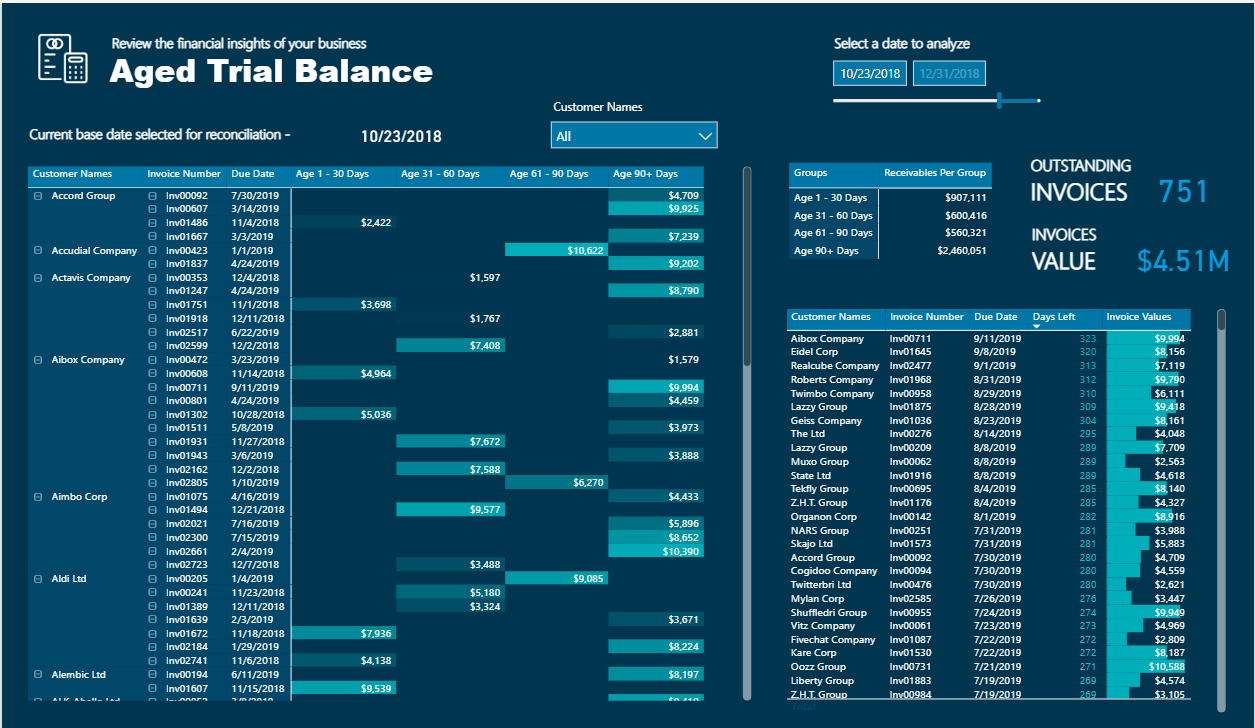

The dashboard page shown, as its layout file describes it:
{"tool":"powerbi","page":{"name":"Aged Trial Balance","canvas":[1280,720],"ordinal":5},"visuals":[{"type":"image","box":[18.3,1.1,88.2,60.2],"z":0},{"type":"textbox","box":[107.6,0,291.5,34.4],"z":1000},{"type":"textbox","box":[105.4,14.7,410.7,60.1],"z":2000},{"type":"pivotTable","fields":{"Rows":["Customers.Customer Names","Invoices.Invoice Number","Invoices.Due Date"],"Values":["Account Receivable.Receivables Per Group"],"Columns":["Aged Debtor Groups.Groups"]},"box":[21.5,136.8,749.7,556.3],"z":5000},{"type":"slicer","fields":{"Values":["Dates.Date.Variation.Date Hierarchy.Year"]},"box":[837.9,22.6,237.5,65.6],"z":6000},{"type":"card","fields":{"Values":["Account Receivable.Selected Date"]},"box":[300.8,97.2,216,29.4],"z":7000},{"type":"textbox","box":[845.8,0,180.9,30.5],"z":8000},{"type":"textbox","box":[22.6,93.9,295.1,30.5],"z":9000},{"type":"slicer","fields":{"Values":["Customers.Customer Names"]},"box":[550.7,67.8,191.1,69],"z":10000},{"type":"card","fields":{"Values":["Account Receivable.Outstanding Invoices"]},"box":[1166.9,128.9,83.7,70.1],"z":11000},{"type":"tableEx","fields":{"Values":["Customers.Customer Names","Invoices.Invoice Number","Invoices.Due Date","Account Receivable.Days Left As Receivable","Account Receivable.Invoice Values"]},"box":[796,282.7,460.2,422.9],"z":12000},{"type":"pivotTable","fields":{"Values":["Account Receivable.Receivables Per Group"],"Rows":["Aged Debtor Groups.Groups"]},"box":[800.6,133.4,237.5,118.7],"z":13000},{"type":"card","fields":{"Values":["Account Receivable.Receivables Per Group"]},"box":[1150,200.1,115.3,70.1],"z":14000},{"type":"textbox","box":[1048.2,194.5,100.6,70.1],"z":15000},{"type":"textbox","box":[1047.1,124.4,121,70.1],"z":16000}]}

Visuals, with their boxes on the page's 1280x720 design canvas (x1, y1, x2, y2). These are canvas units, not pixel positions in the 1255x728 screenshot, which may show the page scaled, cropped or inside an application window:
image: <bbox>18, 1, 106, 61</bbox>
textbox: <bbox>108, 0, 399, 34</bbox>
textbox: <bbox>105, 15, 516, 75</bbox>
pivotTable - Customers.Customer Names x Invoices.Invoice Number: <bbox>22, 137, 771, 693</bbox>
slicer - Dates.Date.Variation.Date Hierarchy.Year: <bbox>838, 23, 1075, 88</bbox>
card - Account Receivable.Selected Date: <bbox>301, 97, 517, 127</bbox>
textbox: <bbox>846, 0, 1027, 30</bbox>
textbox: <bbox>23, 94, 318, 124</bbox>
slicer - Customers.Customer Names: <bbox>551, 68, 742, 137</bbox>
card - Account Receivable.Outstanding Invoices: <bbox>1167, 129, 1251, 199</bbox>
tableEx - Customers.Customer Names x Invoices.Invoice Number: <bbox>796, 283, 1256, 706</bbox>
pivotTable - Account Receivable.Receivables Per Group x Aged Debtor Groups.Groups: <bbox>801, 133, 1038, 252</bbox>
card - Account Receivable.Receivables Per Group: <bbox>1150, 200, 1265, 270</bbox>
textbox: <bbox>1048, 194, 1149, 265</bbox>
textbox: <bbox>1047, 124, 1168, 194</bbox>
